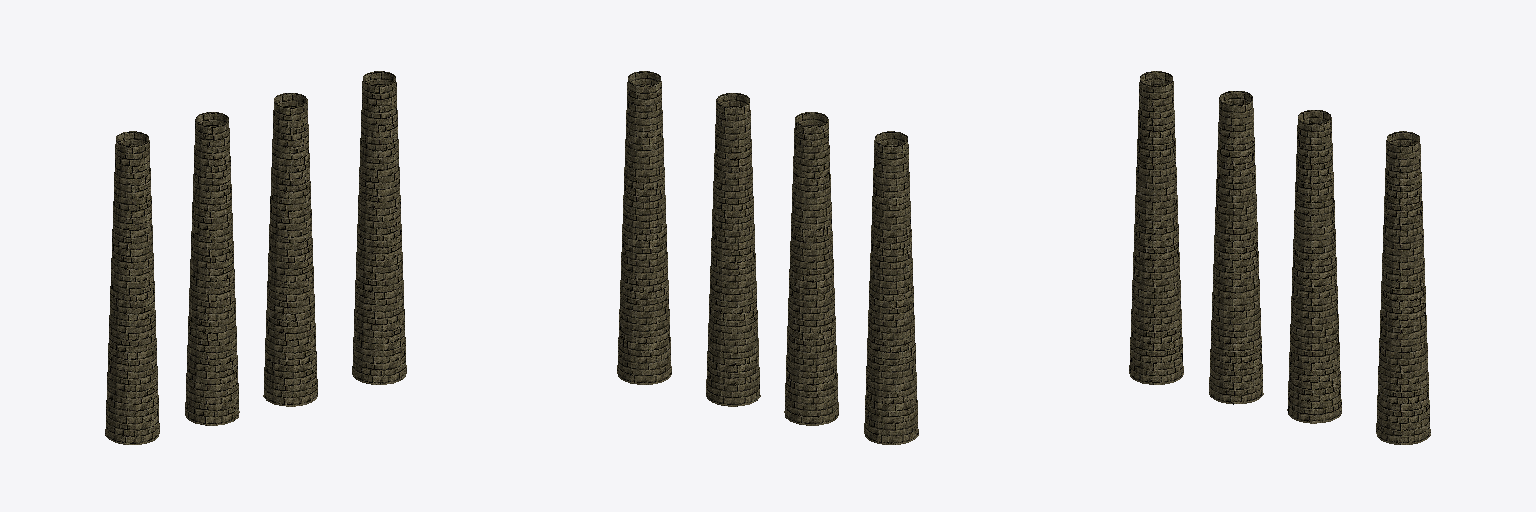
3 views of the same model, side by side, from view 1: azimuth 30°, elevation 25°; view 2: azimuth 150°, elevation 25°; view 3: azimuth 330°, elevation 25° (orthographic).
Parts seen in each view (by area): view 1: Cylinder; view 2: Cylinder; view 3: Cylinder.
Boxes of the visible parts, <box> form: Cylinder: <box>105,71,406,444</box>; Cylinder: <box>617,71,918,444</box>; Cylinder: <box>1129,71,1430,444</box>.
Bounding box in the file's own units: 4.4 × 4.22 × 0.7118.
1 materials, 1 textured.